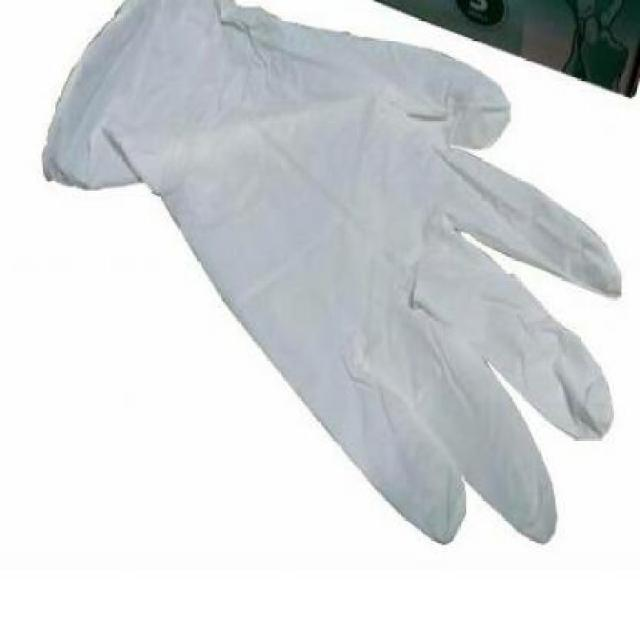Gloves: (40, 0, 615, 549)
